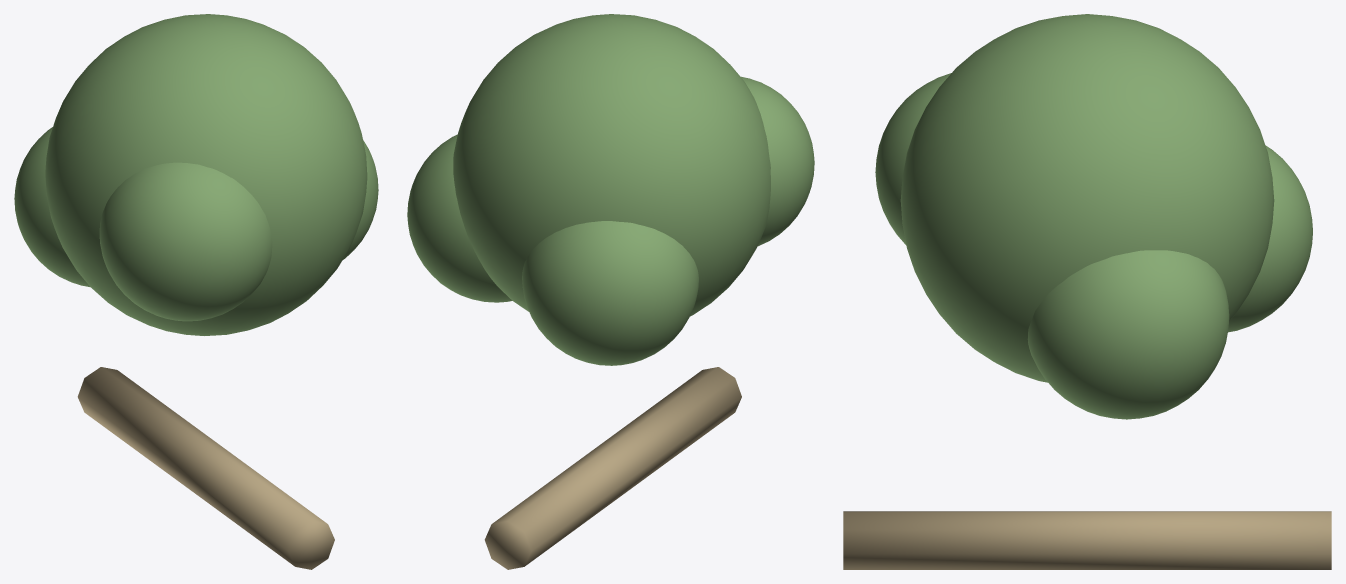
Rendered from plant_tree_oak.glb.
3 renders of one model, left to right at view 1: azimuth 30°, elevation 25°; view 2: azimuth 150°, elevation 25°; view 3: azimuth 270°, elevation 25°, orthographic. The views are drawn at different scales.
Parts seen in each view (by area): view 1: crown_main, crown_sub1, trunk, crown_sub2, crown_sub0; view 2: crown_main, crown_sub2, trunk, crown_sub0, crown_sub1; view 3: crown_main, trunk, crown_sub0, crown_sub2, crown_sub1.
Part boxes in pixels (<box>): crown_main: <box>45,14,367,335</box>; crown_sub1: <box>99,162,272,321</box>; trunk: <box>77,367,334,569</box>; crown_sub2: <box>14,127,90,287</box>; crown_sub0: <box>343,140,378,259</box>; crown_main: <box>453,14,770,316</box>; crown_sub2: <box>522,221,698,365</box>; trunk: <box>484,367,741,569</box>; crown_sub0: <box>407,134,512,302</box>; crown_sub1: <box>741,76,814,246</box>; crown_main: <box>900,14,1274,382</box>; trunk: <box>843,511,1331,569</box>; crown_sub0: <box>1027,250,1229,419</box>; crown_sub2: <box>1228,145,1312,332</box>; crown_sub1: <box>875,73,951,244</box>.
Size of the model in its own units: 0.9899 by 1.37 by 1.13.
